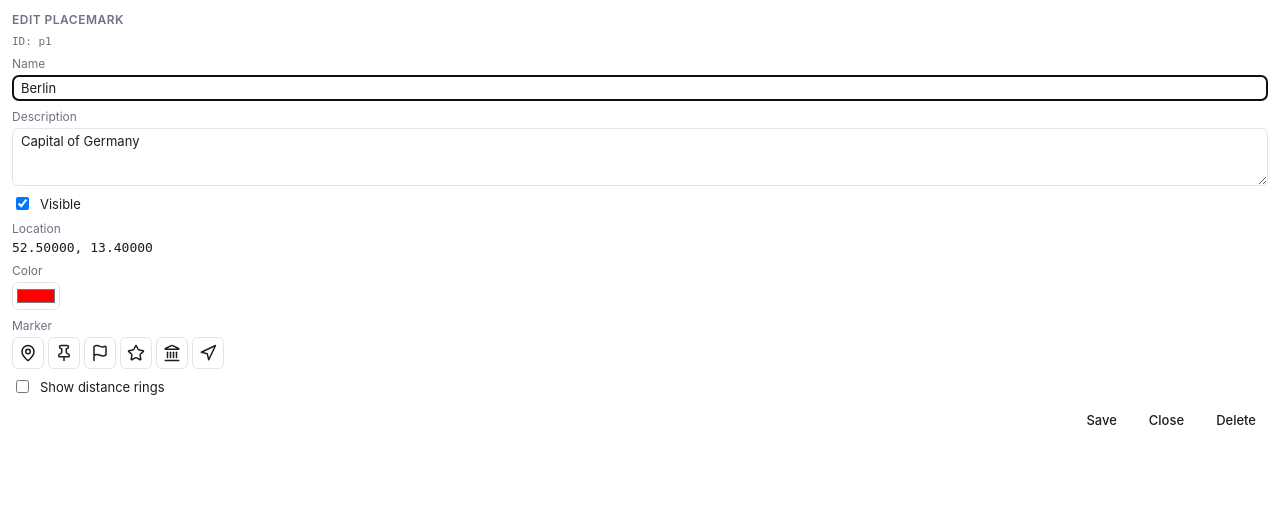
it: PlacemarkEditor - distance rings (session-only) › shows imperial-converted defaults when unitSystem is imperial
The width and height of the screenshot is (1280, 511).
Click the checkbox labelled "Show distance rings".
click(22, 386)  # box [16,380,29,393]
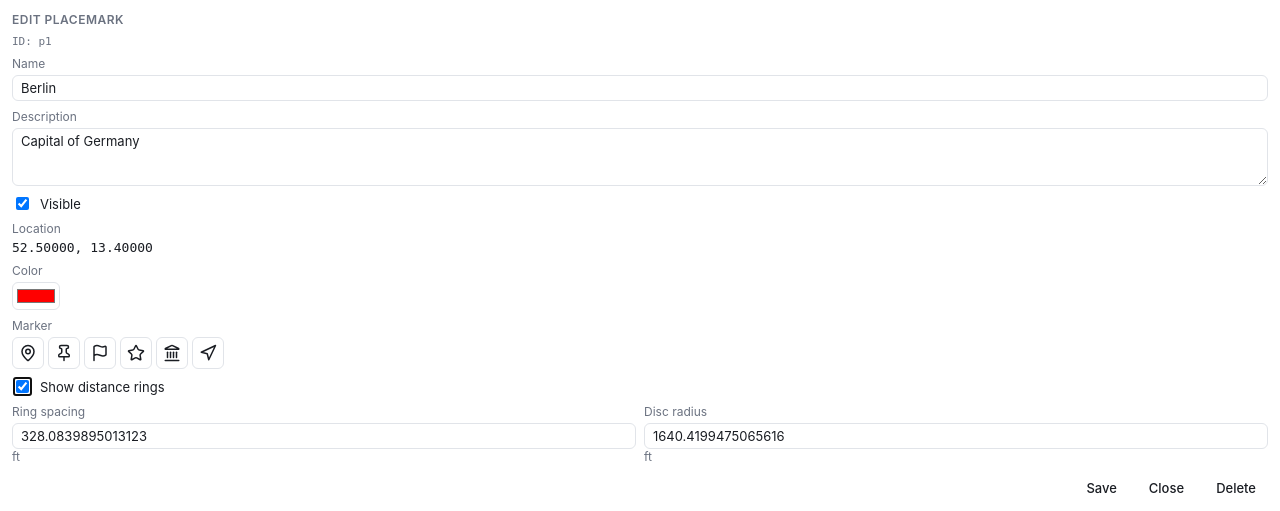
Result: the number field labelled "Ring spacing" does not hold "100" at [12,423,636,449]
Result: the number field labelled "Disc radius" does not hold "500" at [644,423,1268,449]
